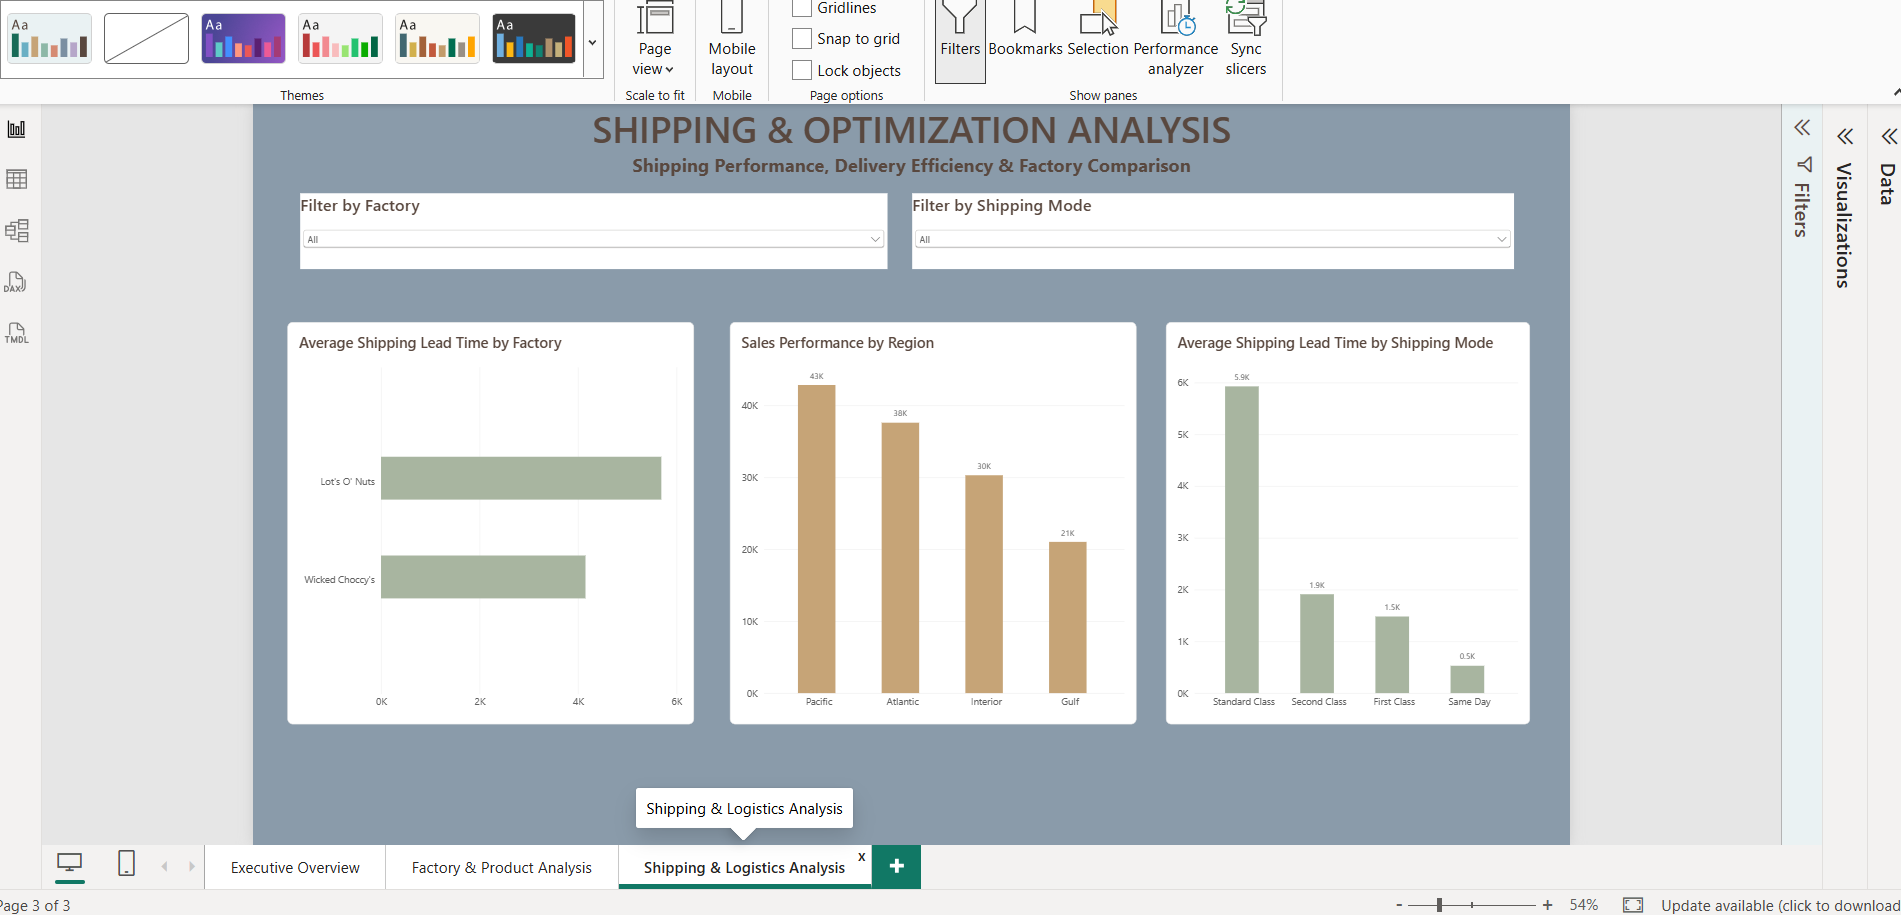

The page's visual inventory and layout, read from the dashboard file:
{"tool":"powerbi","page":{"name":"Shipping & Logistics Analysis","canvas":[1920,1080],"ordinal":2},"visuals":[{"type":"clusteredBarChart","title":"Average Shipping Lead Time by Factory","fields":{"Category":["Nassau Candy Distributor.Current Factory"],"Y":["CountNonNull(Nassau Candy Distributor.Shipping Lead Time)"]},"box":[51,318.8,592.9,586.5],"z":0},{"type":"clusteredColumnChart","title":"Average Shipping Lead Time by Shipping Mode","fields":{"Category":["Nassau Candy Distributor.Ship Mode"],"Y":["CountNonNull(Nassau Candy Distributor.Shipping Lead Time)"]},"box":[1330.3,318.8,531.3,586.5],"z":1000},{"type":"slicer","title":"Filter by Shipping Mode","fields":{"Values":["Nassau Candy Distributor.Ship Mode"]},"box":[960.5,129.6,877.6,110.5],"z":1001},{"type":"slicer","title":"Filter by Factory","fields":{"Values":["Nassau Candy Distributor.Current Factory"]},"box":[68,129.6,856.4,110.5],"z":1002},{"type":"clusteredColumnChart","title":"Sales Performance by Region","fields":{"Category":["Nassau Candy Distributor.Region"],"Y":["Sum(Nassau Candy Distributor.Sales)"]},"box":[694.9,318.8,592.9,586.5],"z":1003},{"type":"textbox","box":[14.9,0,1891.3,112.6],"z":1004}]}

Visuals, with their boxes on the page's 1920x1080 design canvas (x1, y1, x2, y2). These are canvas units, not pixel positions in the 1901x915 screenshot, which may show the page scaled, cropped or inside an application window:
"Average Shipping Lead Time by Factory" clusteredBarChart: {"x1": 51, "y1": 319, "x2": 644, "y2": 905}
"Average Shipping Lead Time by Shipping Mode" clusteredColumnChart: {"x1": 1330, "y1": 319, "x2": 1862, "y2": 905}
"Filter by Shipping Mode" slicer: {"x1": 960, "y1": 130, "x2": 1838, "y2": 240}
"Filter by Factory" slicer: {"x1": 68, "y1": 130, "x2": 924, "y2": 240}
"Sales Performance by Region" clusteredColumnChart: {"x1": 695, "y1": 319, "x2": 1288, "y2": 905}
textbox: {"x1": 15, "y1": 0, "x2": 1906, "y2": 113}
